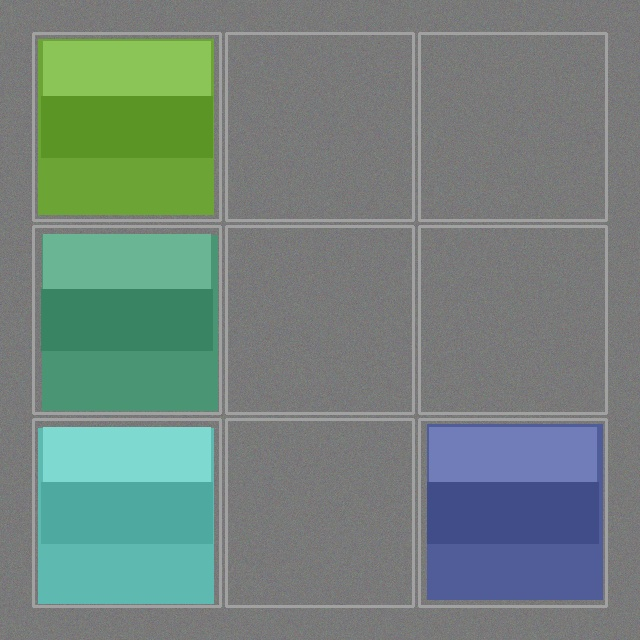space-empty: (228, 35, 411, 218), (421, 35, 604, 218), (228, 228, 411, 411), (421, 228, 604, 411), (228, 421, 411, 604)
space-occupied: (35, 35, 218, 218), (35, 228, 218, 411), (35, 421, 218, 604), (421, 421, 604, 604)
